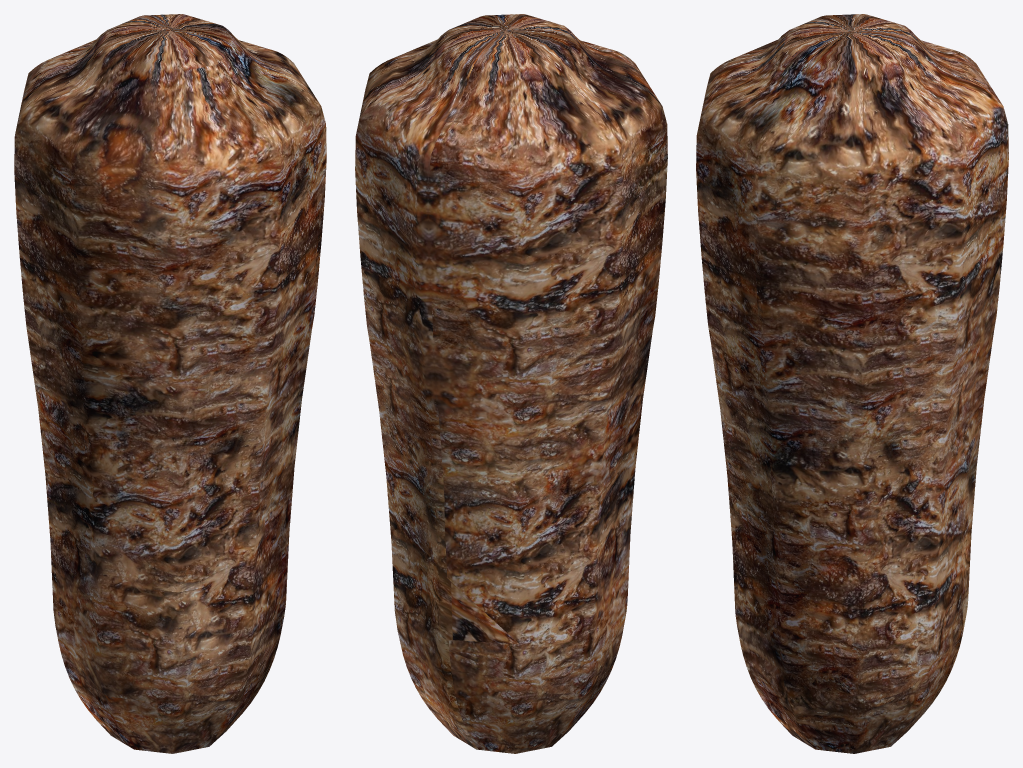
The model's file is Meat 2.FBX.
3 renders of one model, left to right at view 1: azimuth 30°, elevation 25°; view 2: azimuth 150°, elevation 25°; view 3: azimuth 270°, elevation 25°, orthographic.
Parts seen in each view (by area): view 1: meat 2; view 2: meat 2; view 3: meat 2.
Boxes of the visible parts, bbox=[...] form: meat 2: bbox=[14, 14, 326, 753]; meat 2: bbox=[355, 14, 667, 753]; meat 2: bbox=[696, 14, 1008, 753].
Size of the model in its own units: 30.88 by 76.25 by 30.88.
1 material, 1 textured.
